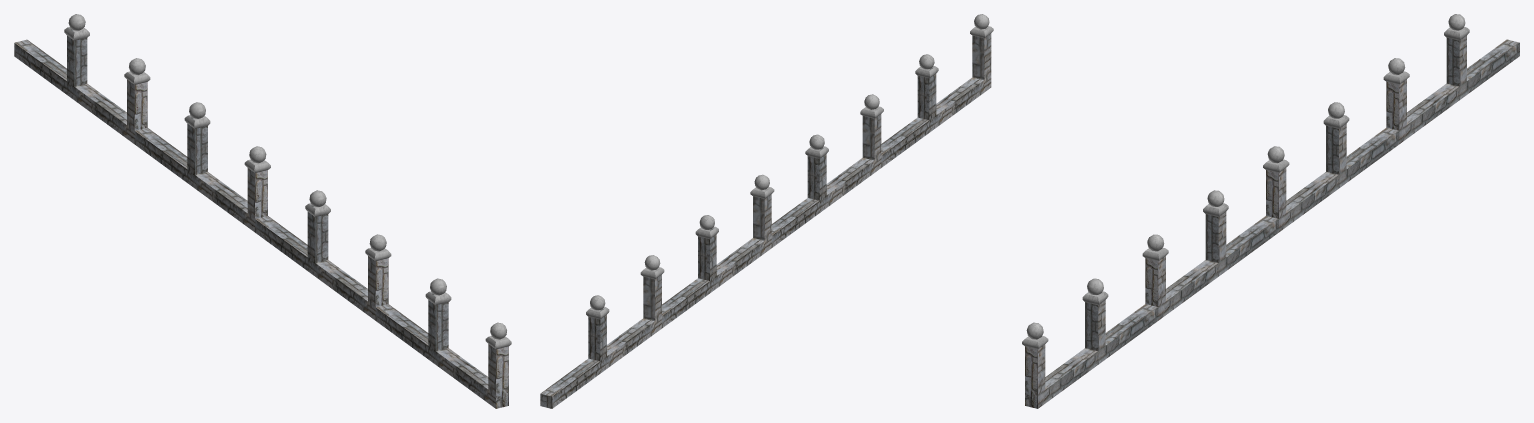
Rendered from StoneFence.fbx.
The picture shows the model from 3 angles, left to right: view 1: azimuth 30°, elevation 25°; view 2: azimuth 150°, elevation 25°; view 3: azimuth 330°, elevation 25°; orthographic projection. The views are drawn at different scales.
Parts seen in each view (by area): view 1: StoneFence; view 2: StoneFence; view 3: StoneFence.
Boxes of the visible parts, x1=… form: StoneFence: x1=14, y1=14, x2=511, y2=408; StoneFence: x1=540, y1=14, x2=993, y2=408; StoneFence: x1=1022, y1=14, x2=1519, y2=408.
Bounding box in the file's own units: 0.6332 × 32.07 × 2.98.
